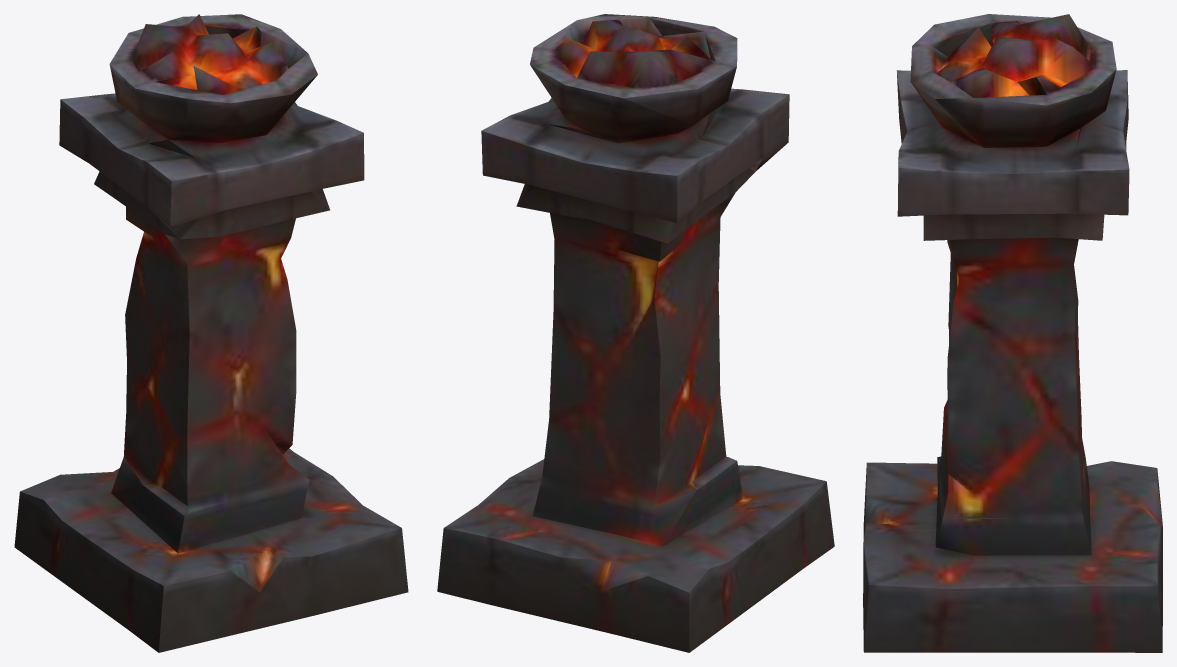
File: b_braises_pilier.glb
3 views of the same model, side by side, from view 1: azimuth 30°, elevation 25°; view 2: azimuth 150°, elevation 25°; view 3: azimuth 270°, elevation 25° (orthographic). The views are drawn at different scales.
Visible parts, largest first — view 1: geometry_0; view 2: geometry_0; view 3: geometry_0.
Boxes of the visible parts, box(x1,y1,x2,y2) form: geometry_0: box(14, 14, 408, 652); geometry_0: box(437, 14, 834, 652); geometry_0: box(863, 14, 1162, 652).
Bounding box in the file's own units: 1 × 2.05 × 1.
1 material, 1 textured.
